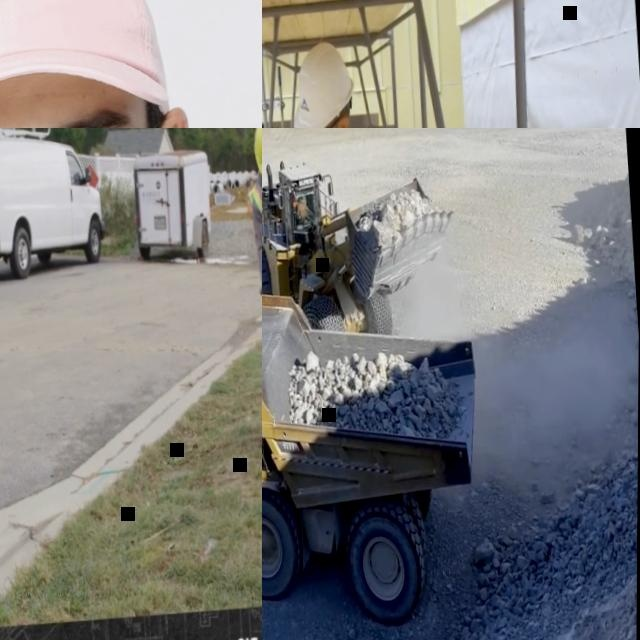Hardhat: (251, 128, 262, 176)
NO-Hardhat: (0, 0, 171, 128), (285, 39, 358, 128), (299, 195, 303, 199)
NO-Safety Vest: (298, 202, 306, 217)
Person: (0, 0, 262, 128), (262, 34, 459, 128), (240, 128, 262, 446), (295, 194, 309, 220)
Safety Cone: (245, 188, 252, 213)
Safety Vest: (246, 146, 262, 270)
machinery: (262, 270, 498, 640), (262, 140, 465, 369)
vehicle: (0, 128, 108, 284)
